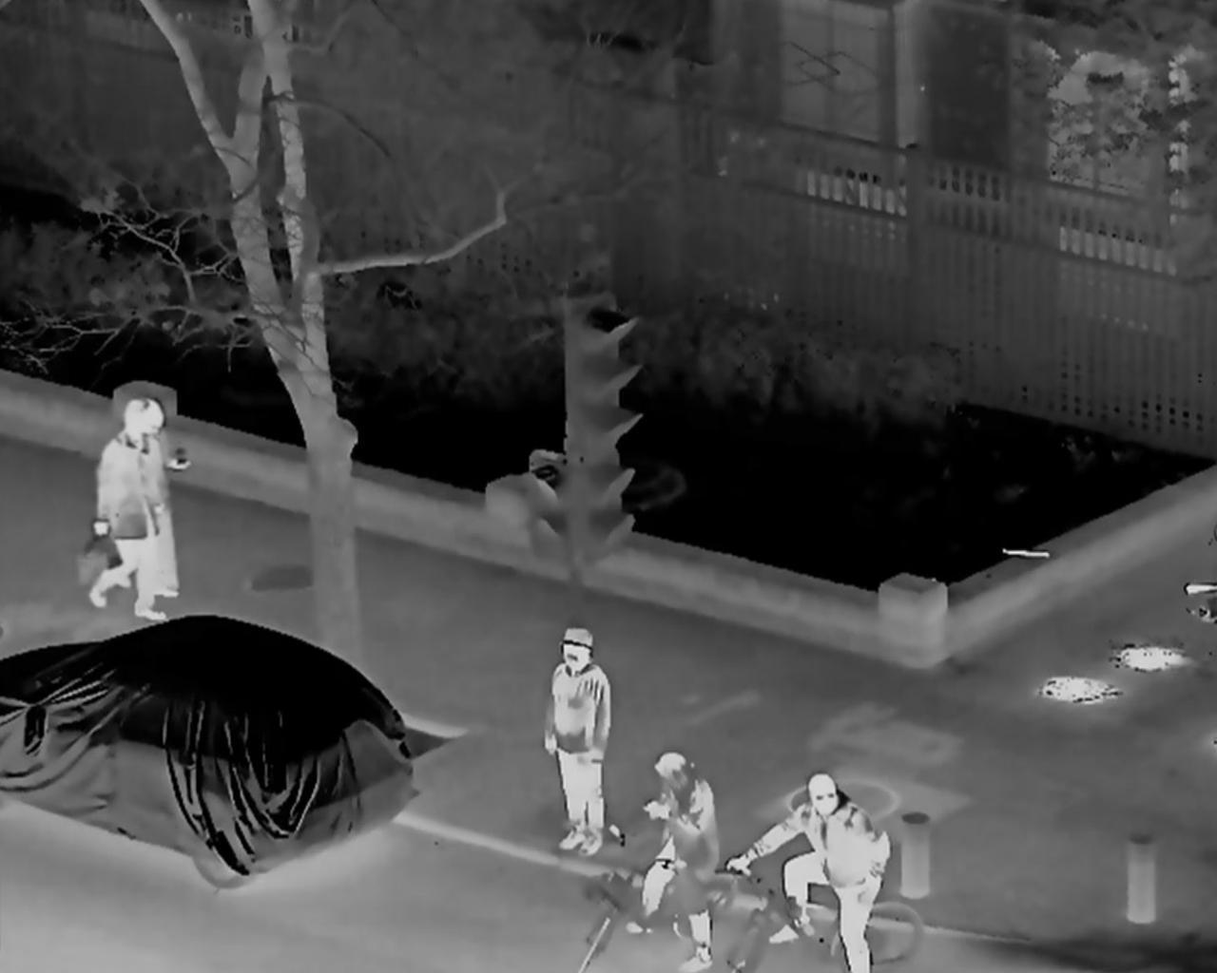person: (732, 776, 890, 971), (634, 754, 722, 972), (539, 616, 615, 860), (95, 409, 164, 629), (114, 401, 185, 594)
